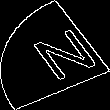N_SE: (14, 23, 96, 87)
